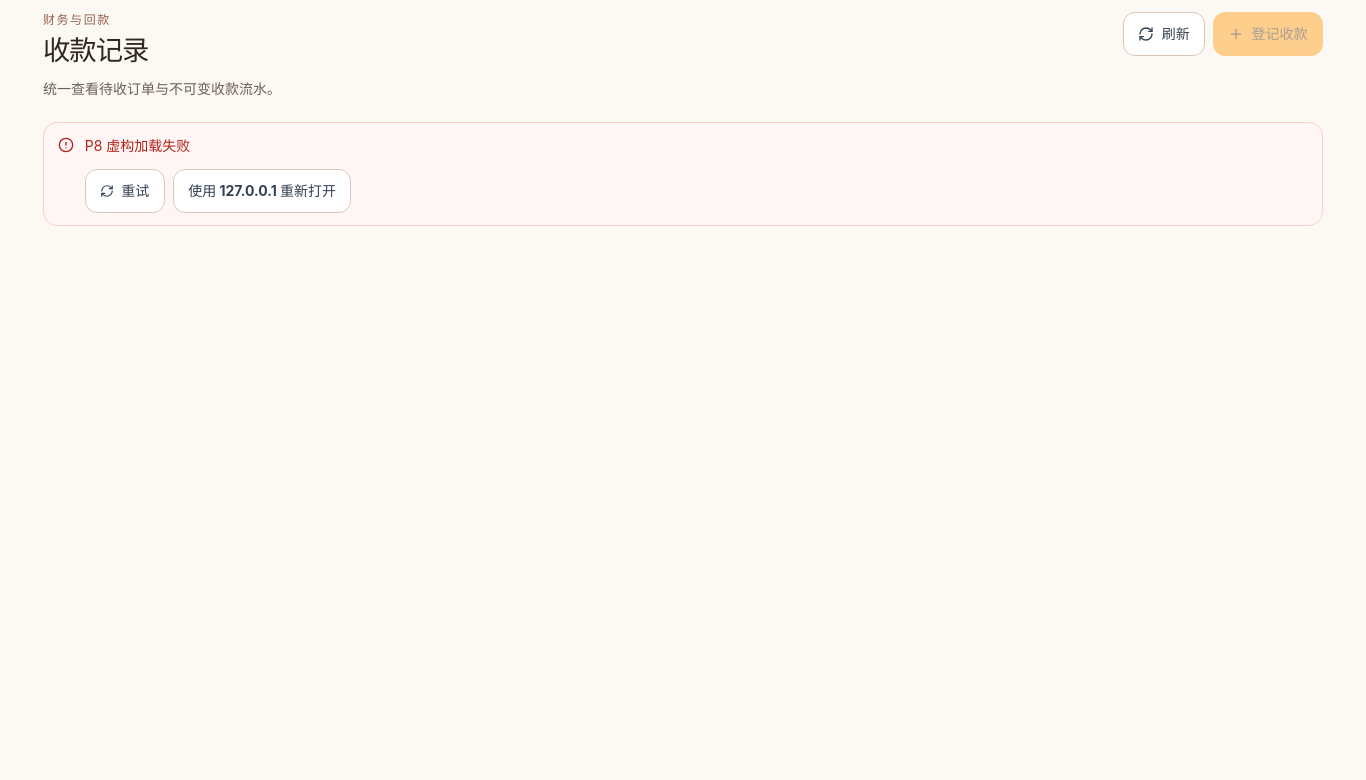
recovers from an API error and shows clean empty states
Expected: the message shows "P8 虚构加载失败", [85,137,190,154]
Click the button "刷新" at (1164, 34), box [1123,12,1205,56]
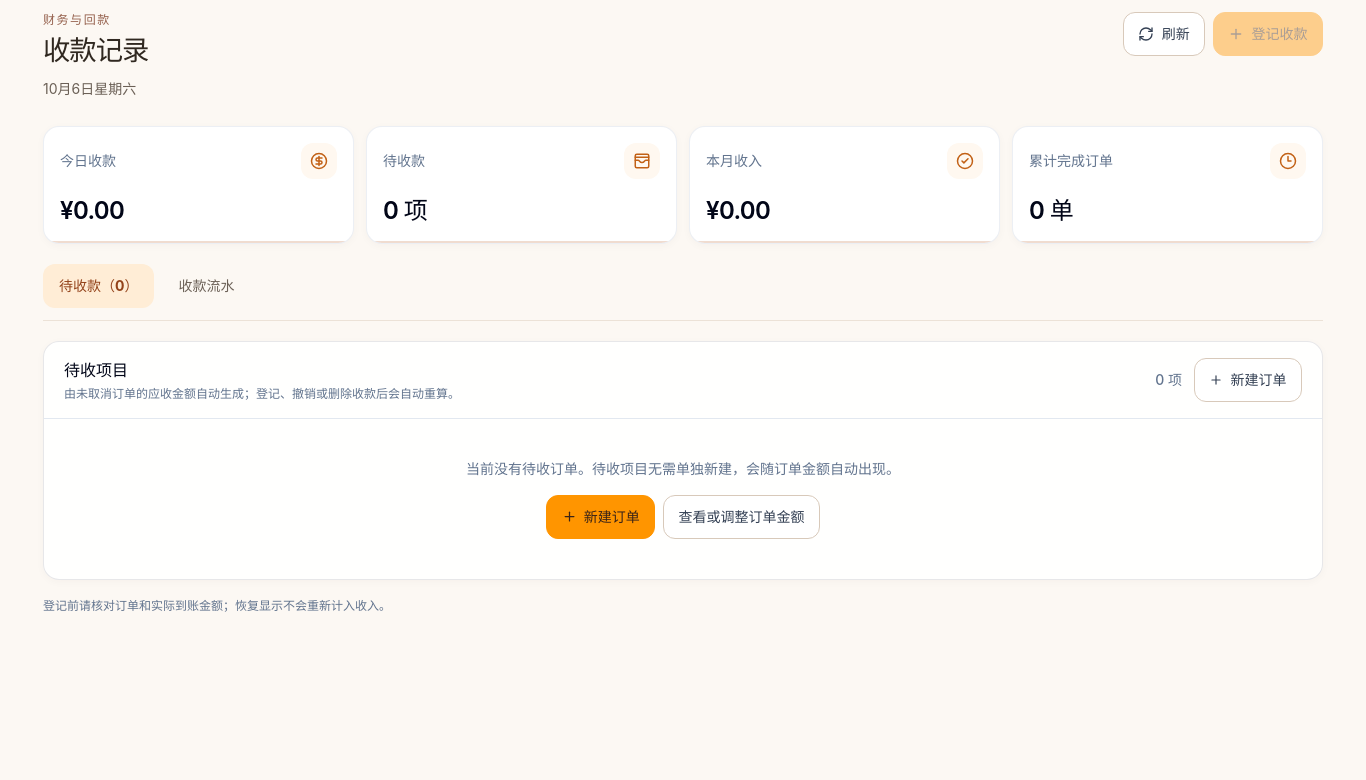
Expected: the button "登记收款" is disabled, [1213,12,1323,56]
Expected: the text "当前没有待收订单。待收项目无需单独新建，会随订单金额自动出现。" is shown, [466,460,900,477]
